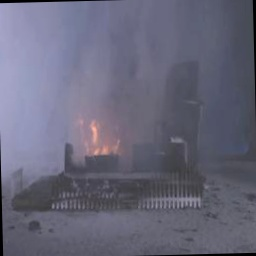fire: (71, 106, 125, 170)
smoke: (0, 0, 159, 117)
